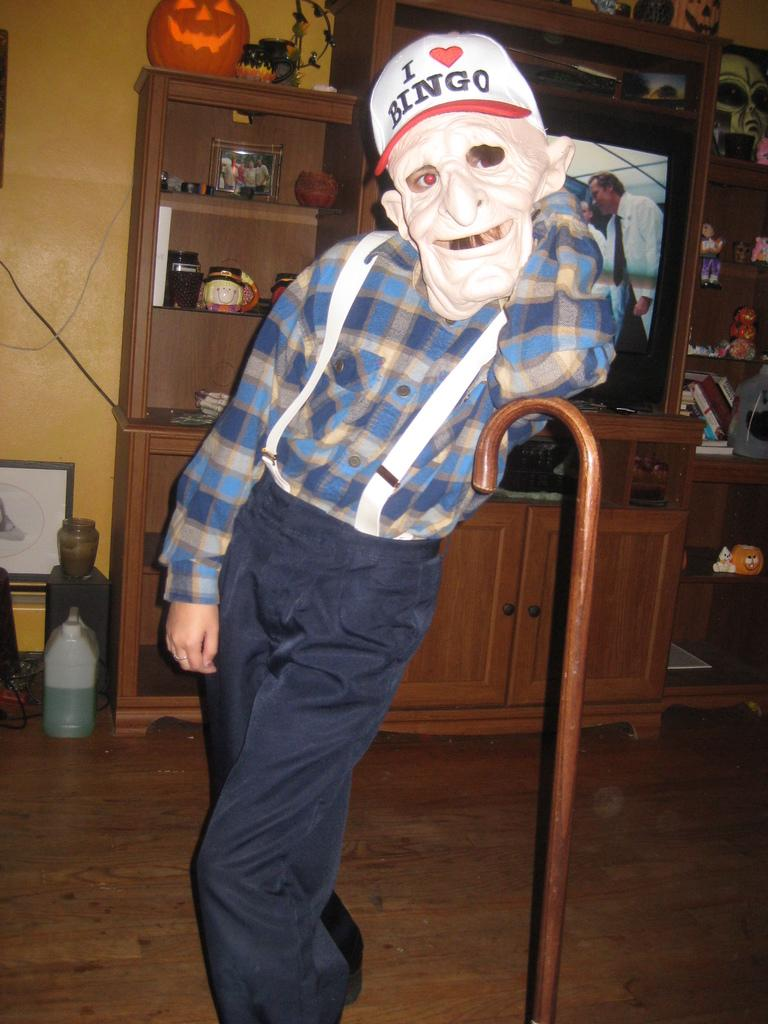Hat: (365, 28, 543, 182)
